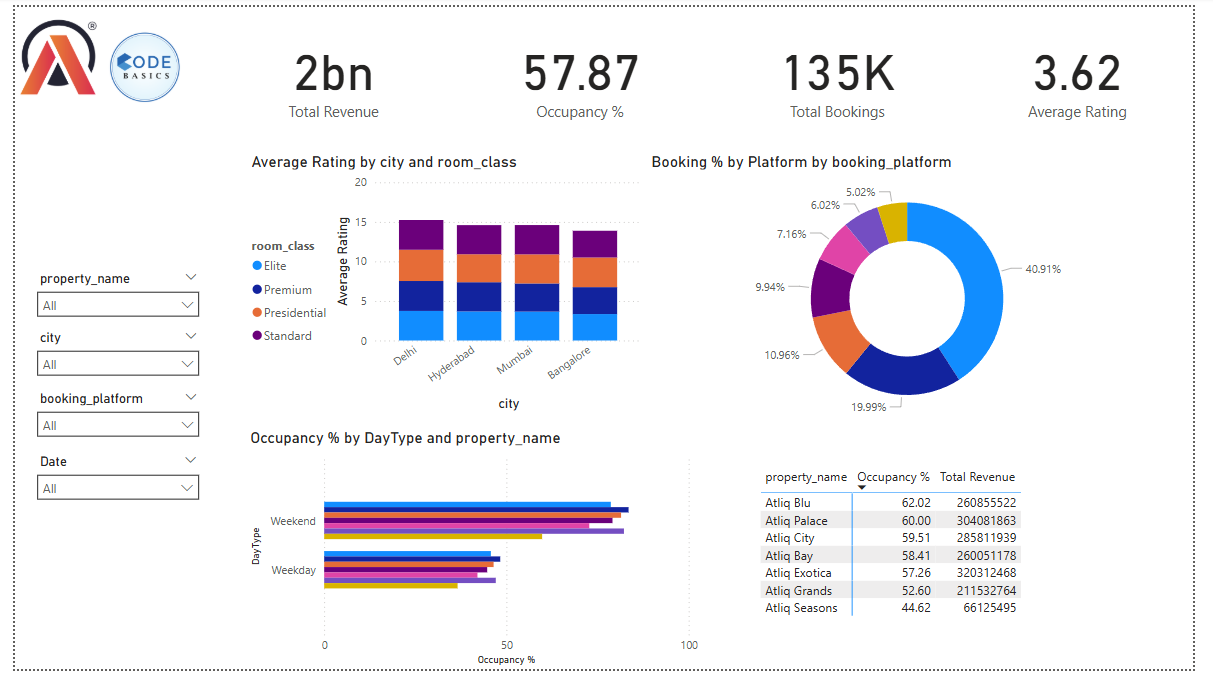

Layout of this report page (visuals, bound fields, positions):
{"tool":"powerbi","page":{"name":"Overview","canvas":[1280,720],"ordinal":0},"visuals":[{"type":"columnChart","fields":{"Category":["dim_hotels.city"],"Y":["fact_bookings.Average Rating"],"Series":["dim_rooms.room_class"]},"box":[252.6,157.7,434.6,285.9],"z":0},{"type":"slicer","fields":{"Values":["dim_hotels.property_name"]},"box":[14.1,282.1,196.2,64.1],"z":1000},{"type":"image","box":[0,0,95.7,108.3],"z":2000},{"type":"image","box":[95.7,0,90.7,131],"z":3000},{"type":"card","fields":{"Values":["fact_bookings.Total Revenue"]},"box":[267.5,18,158,113.1],"z":4000},{"type":"card","fields":{"Values":["fact_aggregated_bookings.Occupancy %"]},"box":[513.5,18,202,113.1],"z":5000},{"type":"clusteredBarChart","fields":{"Category":["dim_date.DayType"],"Series":["dim_hotels.property_name"],"Y":["fact_aggregated_bookings.Occupancy %"]},"box":[251.3,457.7,496.2,262.8],"z":6000},{"type":"donutChart","fields":{"Category":["fact_bookings.booking_platform"],"Y":["fact_bookings.Booking % by Platform"]},"box":[687.2,157.7,565.4,300],"z":7000},{"type":"slicer","fields":{"Values":["fact_bookings.booking_platform"]},"box":[14.1,411.5,196.2,78.2],"z":8000},{"type":"pivotTable","fields":{"Rows":["dim_hotels.property_name"],"Values":["fact_aggregated_bookings.Occupancy %","fact_bookings.Total Revenue"]},"box":[805.1,496.2,305.1,187.2],"z":9000},{"type":"slicer","fields":{"Values":["dim_hotels.city"]},"box":[14.1,346.2,196.2,65.4],"z":10000},{"type":"card","fields":{"Values":["fact_bookings.Total Bookings"]},"box":[765.8,18,255,113.1],"z":11000},{"type":"card","fields":{"Values":["fact_bookings.Average Rating"]},"box":[1030.8,17.9,248.7,112.8],"z":12000},{"type":"slicer","fields":{"Values":["dim_date.Date"]},"box":[14.4,480.3,195.7,70.9],"z":12001}]}

Visuals, with their boxes in screenshot pixels (x1, y1, x2, y2), scaled from the page's 1280x720 canvas onto the 1213x683 screenshot:
columnChart - dim_hotels.city x fact_bookings.Average Rating: (239,150,651,421)
slicer - dim_hotels.property_name: (13,268,199,328)
image: (0,0,91,103)
image: (91,0,177,124)
card - fact_bookings.Total Revenue: (253,17,403,124)
card - fact_aggregated_bookings.Occupancy %: (487,17,678,124)
clusteredBarChart - dim_date.DayType x dim_hotels.property_name: (238,434,708,682)
donutChart - fact_bookings.booking_platform x fact_bookings.Booking % by Platform: (651,150,1187,434)
slicer - fact_bookings.booking_platform: (13,390,199,465)
pivotTable - dim_hotels.property_name x fact_aggregated_bookings.Occupancy %: (763,471,1052,648)
slicer - dim_hotels.city: (13,328,199,390)
card - fact_bookings.Total Bookings: (726,17,967,124)
card - fact_bookings.Average Rating: (977,17,1212,124)
slicer - dim_date.Date: (14,456,199,523)
